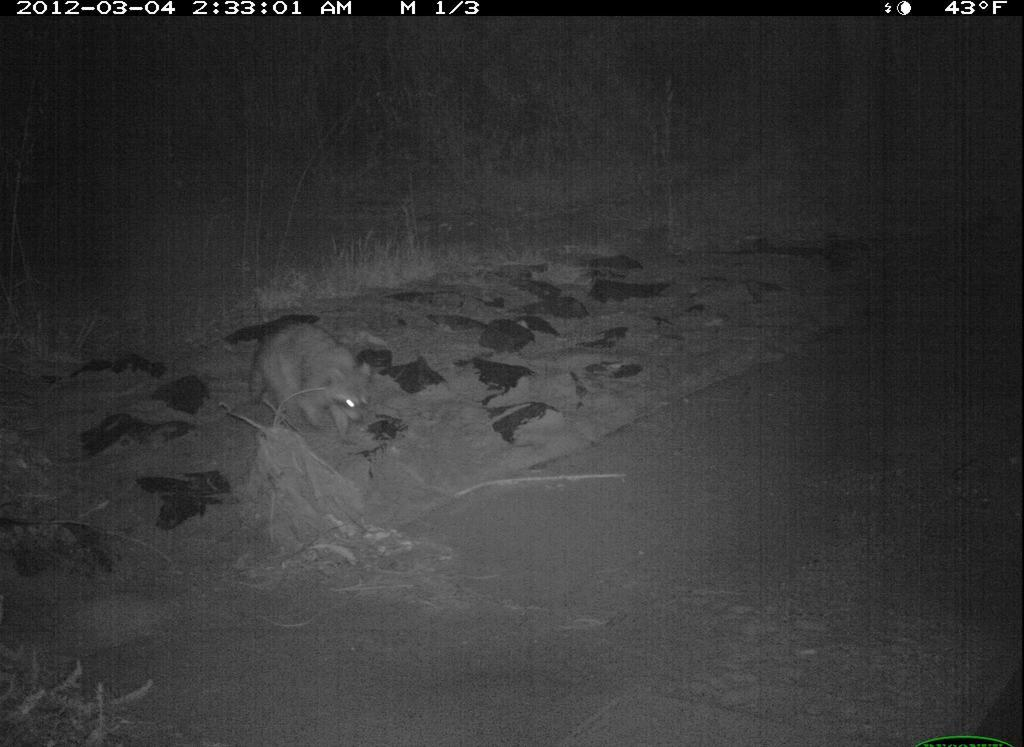raccoon: (237, 312, 387, 464)
